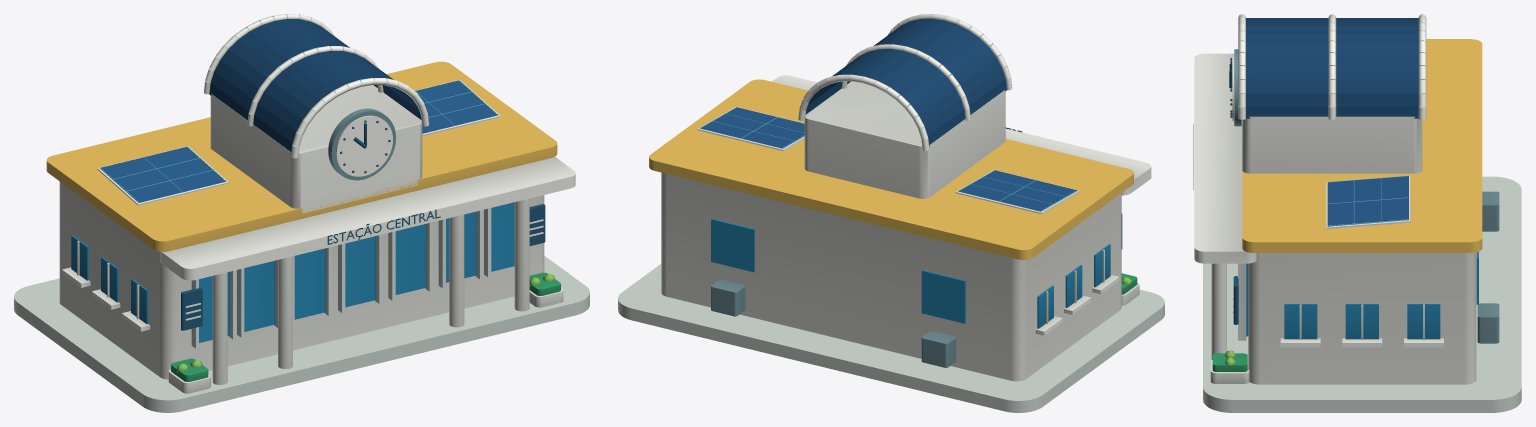
Rendered from central-station.glb.
3 renders of one model, left to right at view 1: azimuth 30°, elevation 25°; view 2: azimuth 150°, elevation 25°; view 3: azimuth 270°, elevation 25°, orthographic. The views are drawn at different scales.
Visible parts, largest first — view 1: station masonry, platform cornice, station forecourt, barrel-vaulted roof, recessed glazing, window stone reveal, hour hand, clock surround, planter foliage, solar cell division; view 2: station masonry, platform cornice, station forecourt, barrel-vaulted roof, recessed glazing, clock surround, solar cell division; view 3: station masonry, platform cornice, barrel-vaulted roof, station forecourt, recessed glazing, clock surround, window stone reveal, planter foliage, hour hand, solar cell division.
Part boxes in pixels (left/top/right/bottom): station masonry: left=59, top=14, right=575, bottom=393; platform cornice: left=46, top=61, right=557, bottom=251; station forecourt: left=14, top=256, right=589, bottom=412; barrel-vaulted roof: left=100, top=19, right=498, bottom=202; recessed glazing: left=71, top=202, right=514, bottom=342; window stone reveal: left=191, top=208, right=491, bottom=348; hour hand: left=181, top=120, right=545, bottom=330; clock surround: left=328, top=108, right=395, bottom=180; planter foliage: left=171, top=272, right=560, bottom=381; solar cell division: left=100, top=80, right=497, bottom=202; station masonry: left=661, top=14, right=1151, bottom=381; platform cornice: left=649, top=79, right=1133, bottom=260; station forecourt: left=618, top=264, right=1164, bottom=412; barrel-vaulted roof: left=700, top=18, right=1077, bottom=211; recessed glazing: left=711, top=218, right=1110, bottom=328; clock surround: left=711, top=279, right=955, bottom=367; solar cell division: left=700, top=107, right=1077, bottom=211; station masonry: left=1194, top=14, right=1476, bottom=384; platform cornice: left=1242, top=39, right=1482, bottom=252; barrel-vaulted roof: left=1246, top=18, right=1418, bottom=226; station forecourt: left=1203, top=176, right=1521, bottom=412; recessed glazing: left=1246, top=251, right=1478, bottom=339; clock surround: left=1234, top=49, right=1499, bottom=343; window stone reveal: left=1238, top=263, right=1246, bottom=340; planter foliage: left=1212, top=353, right=1247, bottom=371; hour hand: left=1193, top=58, right=1238, bottom=324; solar cell division: left=1328, top=175, right=1408, bottom=226.
Bounding box in the file's own units: 8.8 × 5.12 × 5.46.
